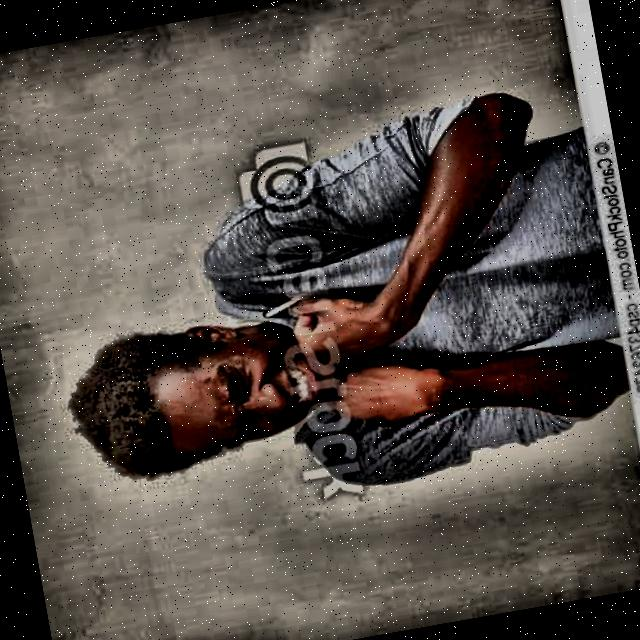fear: (54, 279, 355, 494)
